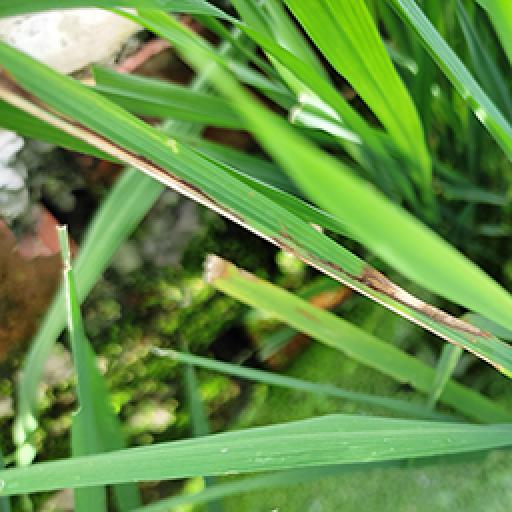Leaf Blast Disease: (2, 54, 294, 270), (294, 206, 498, 372)
